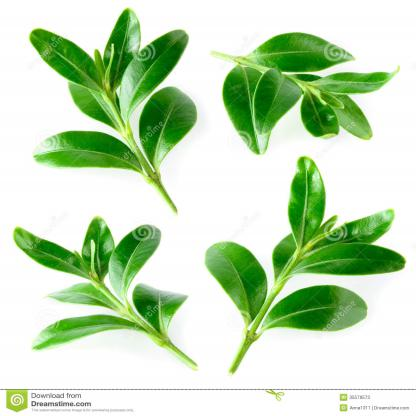blueberry leaf: (196, 226, 277, 331), (219, 57, 292, 171), (116, 15, 187, 131), (26, 126, 148, 188), (97, 206, 162, 309), (247, 290, 381, 339), (129, 81, 198, 174), (246, 26, 374, 70), (5, 221, 91, 286), (132, 264, 190, 359), (26, 25, 100, 99), (299, 59, 412, 100), (287, 75, 346, 145)
